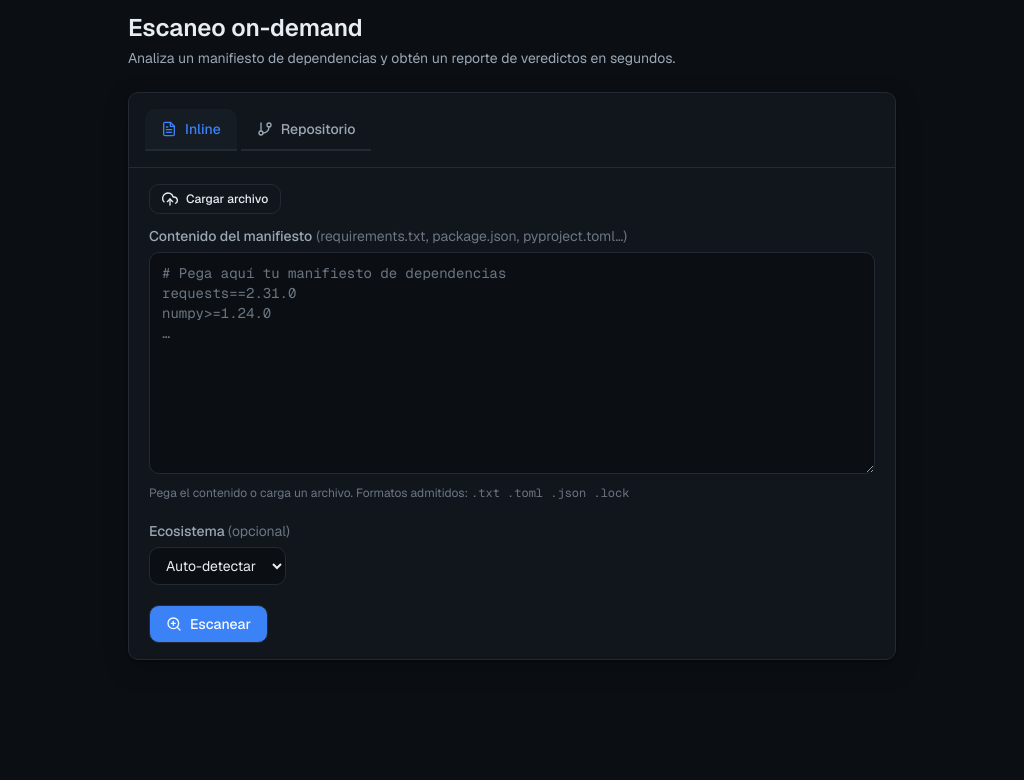
ScanPage — error de API › error inesperado (no ApiError) muestra mensaje genérico
Type "requests==2.31.0" into the text box labelled "Contenido del manifiesto" at (512, 363), box [149,252,875,474]
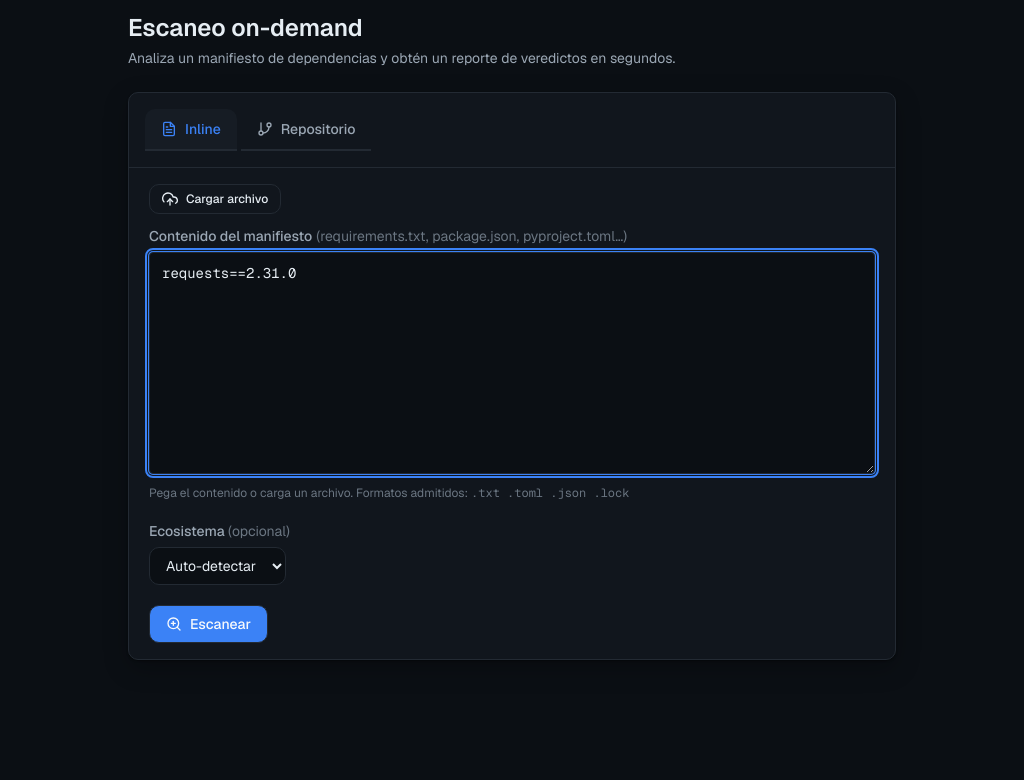
Click the button with aria-label "Iniciar escaneo" at (208, 624), box [149,605,268,643]
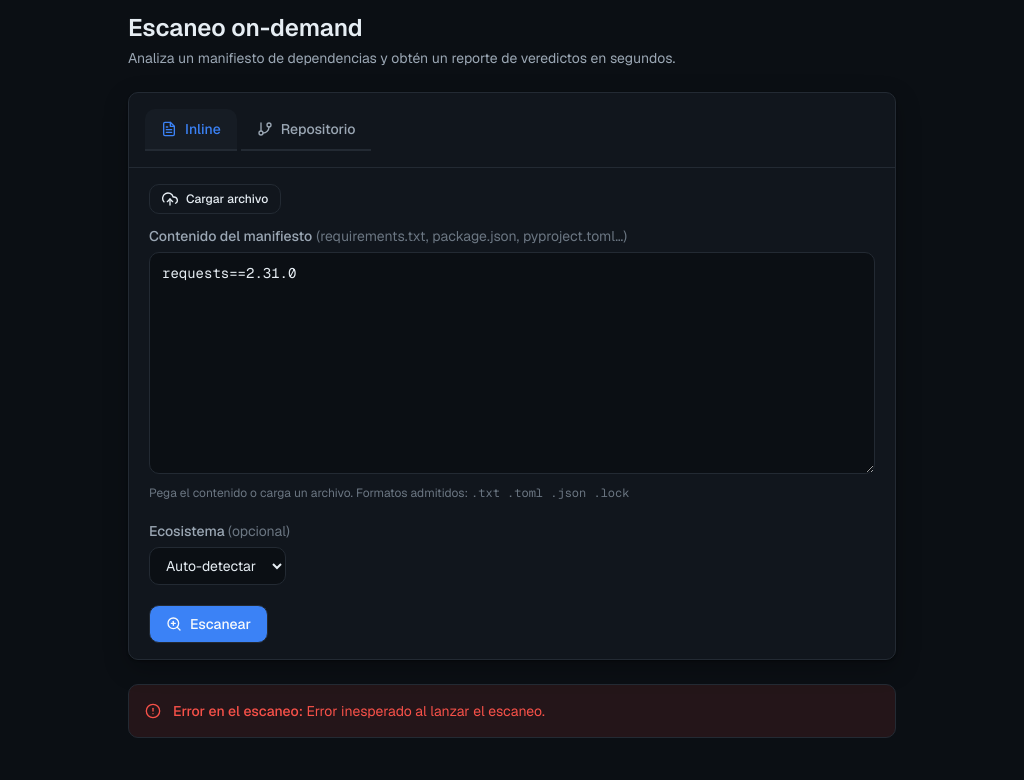
Check: the message does not show "boom interno", box [128,684,896,738]
Check: the message shows "Error inesperado al lanzar el escaneo.", box [306,702,545,720]
